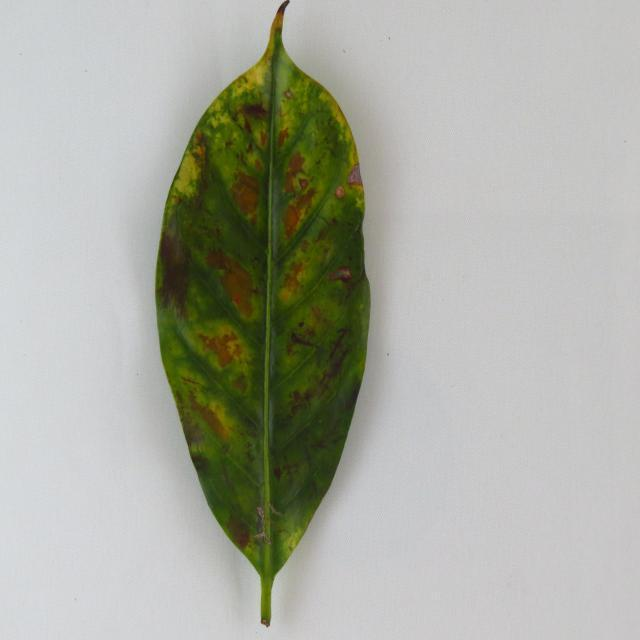DeficienciaNutricional-Magnesio: (156, 3, 370, 627)
